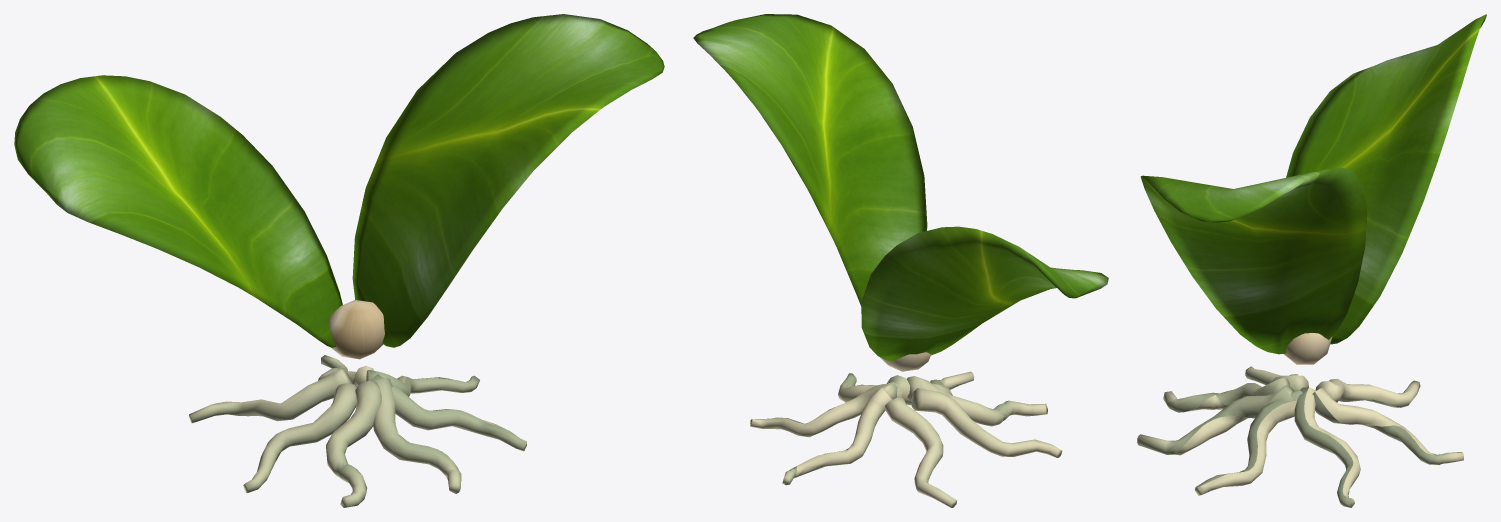
The model's file is NP_Orchid_Sprout_LOD1.fbx.
The picture shows the model from 3 angles, left to right: view 1: azimuth 30°, elevation 25°; view 2: azimuth 150°, elevation 25°; view 3: azimuth 270°, elevation 25°; orthographic projection. The views are drawn at different scales.
Parts seen in each view (by area): view 1: NP_Orchid_Sprout; view 2: NP_Orchid_Sprout; view 3: NP_Orchid_Sprout.
Part boxes in pixels (<box>): NP_Orchid_Sprout: <box>14,14,664,507</box>; NP_Orchid_Sprout: <box>693,14,1108,507</box>; NP_Orchid_Sprout: <box>1137,14,1486,507</box>.
Bounding box in the file's own units: 32.14 × 22.16 × 19.3.
